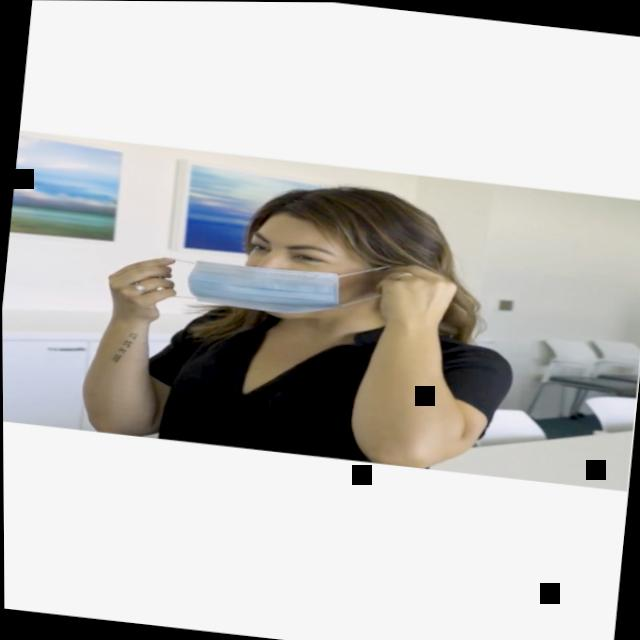NO-Mask: (231, 192, 386, 322)
